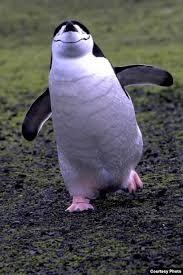chinstrap: (14, 19, 173, 212)
